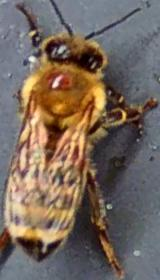varroa_mite: (43, 62, 78, 98)
